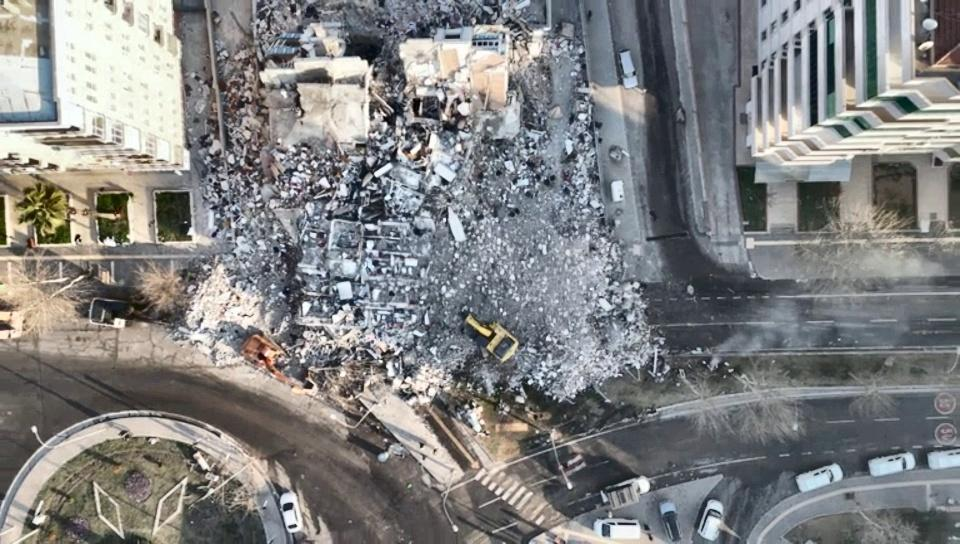kapali: (116, 289, 735, 353)
